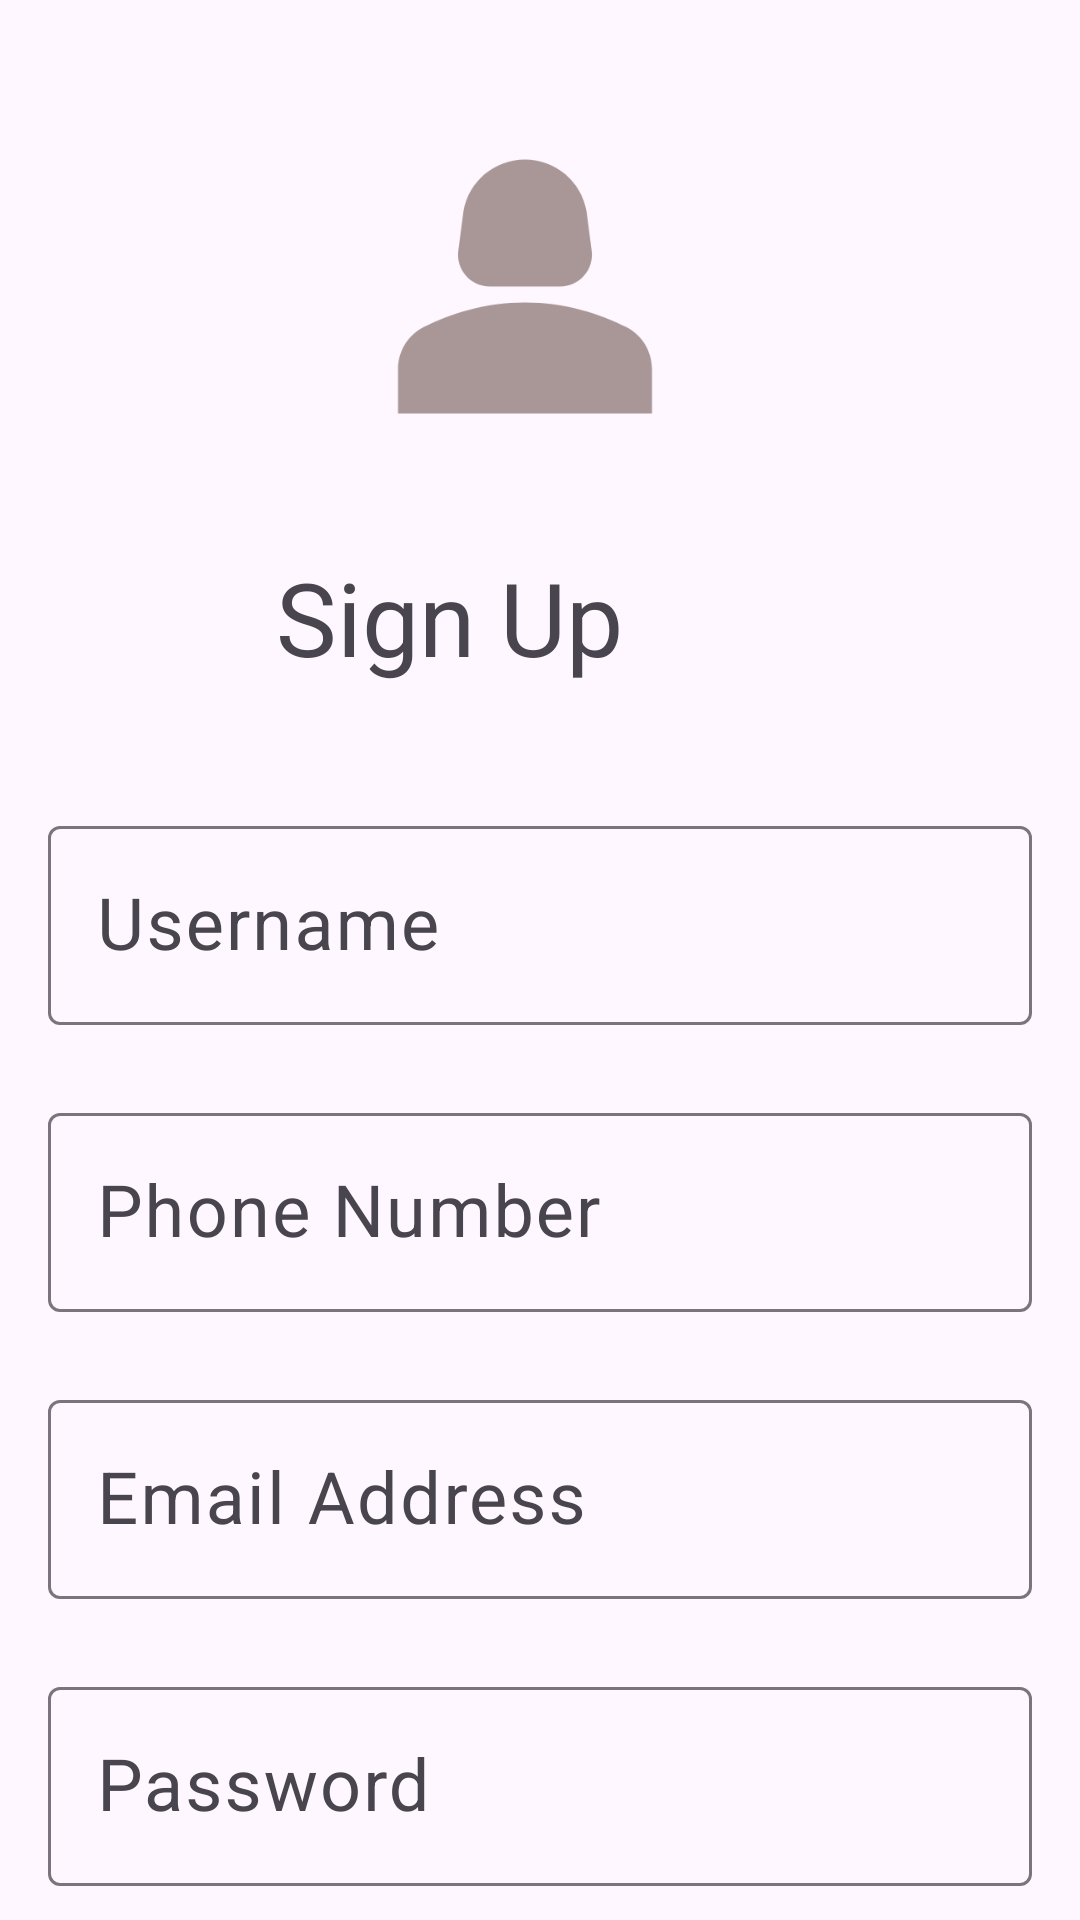

Named icons in this screenshot (1080 × 1920) and their bounding boxes, (x1, y1, x2, y2):
person: (398, 159, 652, 414)
